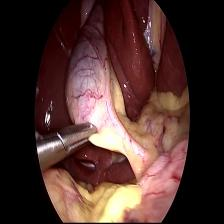Grasper: (56, 121, 102, 158)
